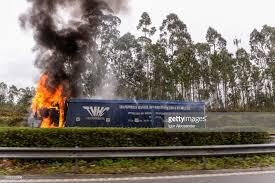fire: (29, 71, 70, 128)
